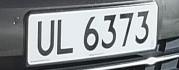3: (132, 7, 152, 50), (100, 12, 118, 52)
6: (81, 14, 101, 53)
7: (118, 10, 135, 50)
L: (55, 16, 77, 58)
U: (33, 15, 57, 61)
